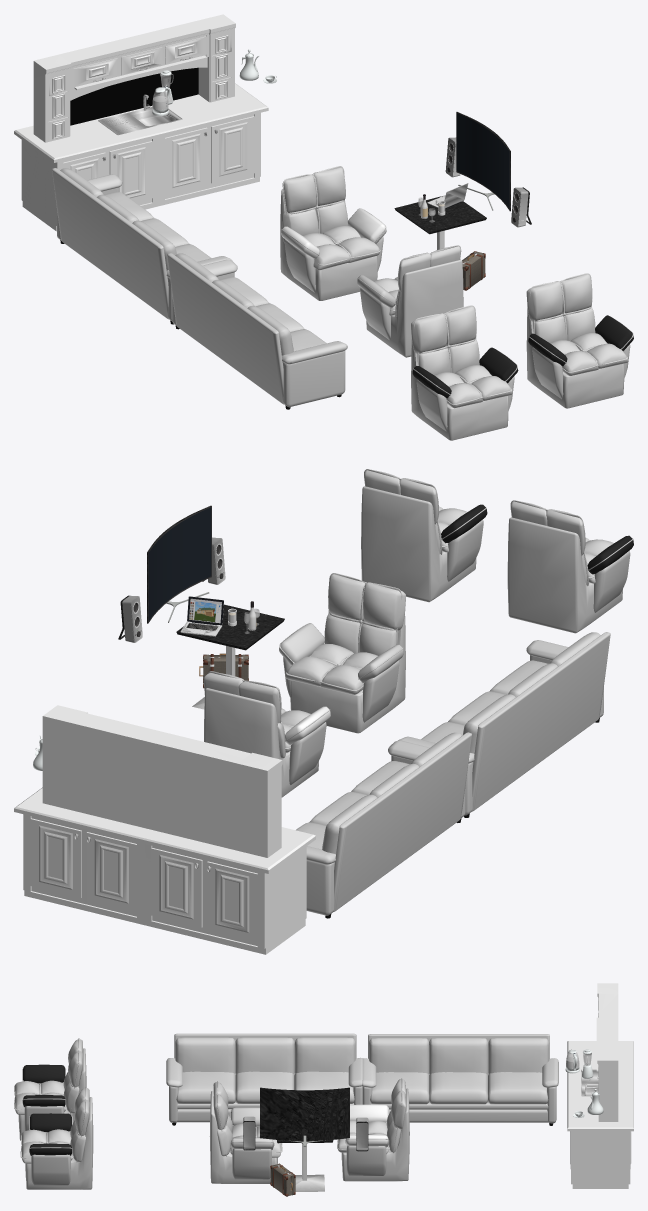
File: planeinside.fbx
The picture shows the model from 3 angles, top to bottom: view 1: azimuth 30°, elevation 25°; view 2: azimuth 150°, elevation 25°; view 3: azimuth 270°, elevation 25°; orthographic projection. The views are drawn at different scales.
Visible parts, largest first — view 1: Furniture_3s4Thby7T7QRmPx2llm5lI, Furniture_0ybIPjaxf9heqTW1lwHoEC, Sofa3x_amazing_3ruxg6bTT3FOKmfI6oe8HG, Sofa3x_amazing_1tAi_w0xD1DhvWcmskbYk7, Chair92_1FXosDybf4xwu88dBIUl4k, Chair92_3nENPMMy92WOvvNi_wjMsU, Furniture_21gJWUqgP4eekIsXeFi7og, Furniture_3bGTDODi92DQHbAu$U9WWF; view 2: Furniture_3s4Thby7T7QRmPx2llm5lI, Furniture_0ybIPjaxf9heqTW1lwHoEC, Sofa3x_amazing_1tAi_w0xD1DhvWcmskbYk7, Sofa3x_amazing_3ruxg6bTT3FOKmfI6oe8HG, Chair92_3nENPMMy92WOvvNi_wjMsU, Chair92_1FXosDybf4xwu88dBIUl4k, Furniture_21gJWUqgP4eekIsXeFi7og, Furniture_3bGTDODi92DQHbAu$U9WWF; view 3: Sofa3x_amazing_1tAi_w0xD1DhvWcmskbYk7, Sofa3x_amazing_3ruxg6bTT3FOKmfI6oe8HG, Furniture_3s4Thby7T7QRmPx2llm5lI, Furniture_0ybIPjaxf9heqTW1lwHoEC, Furniture_21gJWUqgP4eekIsXeFi7og, Chair92_1FXosDybf4xwu88dBIUl4k, Chair92_3nENPMMy92WOvvNi_wjMsU, Furniture_3bGTDODi92DQHbAu$U9WWF.
Part boxes in pixels (x1,y1,x2,y2): Furniture_3s4Thby7T7QRmPx2llm5lI: (14,14,268,231); Furniture_0ybIPjaxf9heqTW1lwHoEC: (411,273,633,440); Sofa3x_amazing_3ruxg6bTT3FOKmfI6oe8HG: (167,253,347,409); Sofa3x_amazing_1tAi_w0xD1DhvWcmskbYk7: (52,168,232,324); Chair92_1FXosDybf4xwu88dBIUl4k: (280,166,386,300); Chair92_3nENPMMy92WOvvNi_wjMsU: (357,245,463,357); Furniture_21gJWUqgP4eekIsXeFi7og: (445,112,531,227); Furniture_3bGTDODi92DQHbAu$U9WWF: (152,49,486,290); Furniture_3s4Thby7T7QRmPx2llm5lI: (14,705,315,954); Furniture_0ybIPjaxf9heqTW1lwHoEC: (361,469,633,633); Sofa3x_amazing_1tAi_w0xD1DhvWcmskbYk7: (296,732,472,918); Sofa3x_amazing_3ruxg6bTT3FOKmfI6oe8HG: (398,632,610,817); Chair92_3nENPMMy92WOvvNi_wjMsU: (279,573,406,733); Chair92_1FXosDybf4xwu88dBIUl4k: (203,671,330,797); Furniture_21gJWUqgP4eekIsXeFi7og: (118,505,225,642); Furniture_3bGTDODi92DQHbAu$U9WWF: (33,596,284,770); Sofa3x_amazing_1tAi_w0xD1DhvWcmskbYk7: (362,1034,558,1125); Sofa3x_amazing_3ruxg6bTT3FOKmfI6oe8HG: (166,1033,362,1125); Furniture_3s4Thby7T7QRmPx2llm5lI: (567,983,633,1188); Furniture_0ybIPjaxf9heqTW1lwHoEC: (14,1038,93,1189); Furniture_21gJWUqgP4eekIsXeFi7og: (243,1087,368,1151); Chair92_1FXosDybf4xwu88dBIUl4k: (337,1078,409,1181); Chair92_3nENPMMy92WOvvNi_wjMsU: (209,1081,282,1183); Furniture_3bGTDODi92DQHbAu$U9WWF: (270,1049,603,1196).
Size of the model in its own units: 359 by 175 by 768.
Materials: 33 (8 with a texture image).
